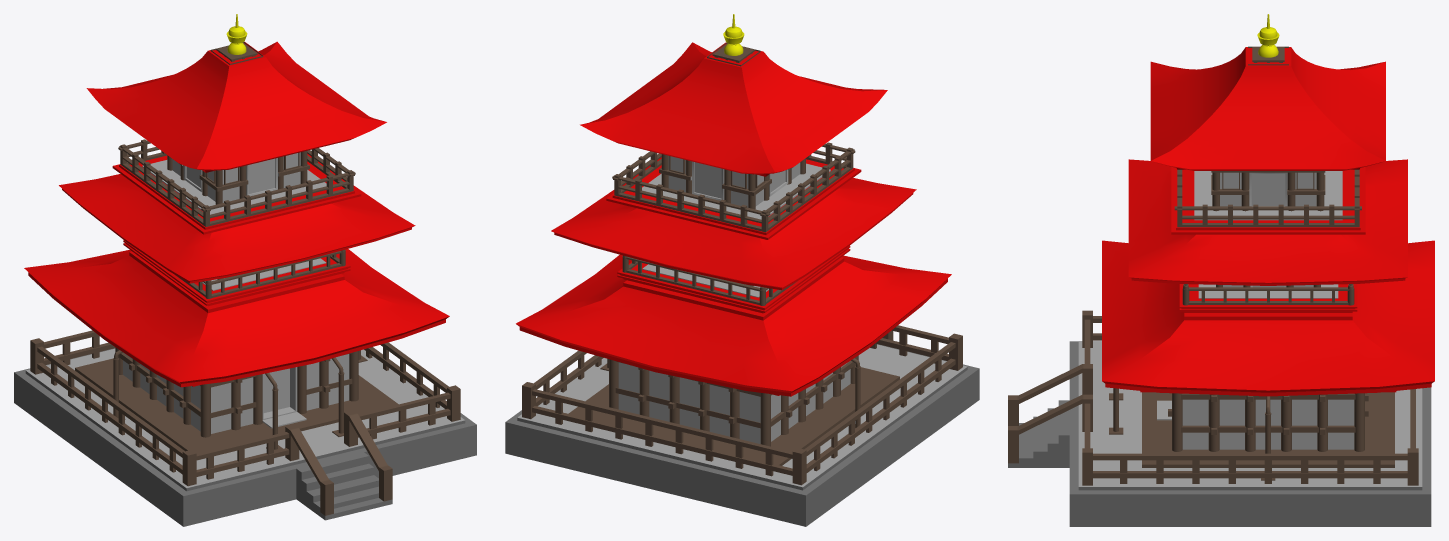
File: Japanese_house_04.fbx
3 renders of one model, left to right at view 1: azimuth 30°, elevation 25°; view 2: azimuth 150°, elevation 25°; view 3: azimuth 270°, elevation 25°, orthographic. The views are drawn at different scales.
Visible parts, largest first — view 1: Japanese_house_04; view 2: Japanese_house_04; view 3: Japanese_house_04.
Boxes of the visible parts, box(x1,y1,x2,y2) form: Japanese_house_04: box(14, 14, 476, 526); Japanese_house_04: box(505, 14, 979, 526); Japanese_house_04: box(1008, 14, 1434, 526).
Bounding box in the file's own units: 230 × 306 × 272.
